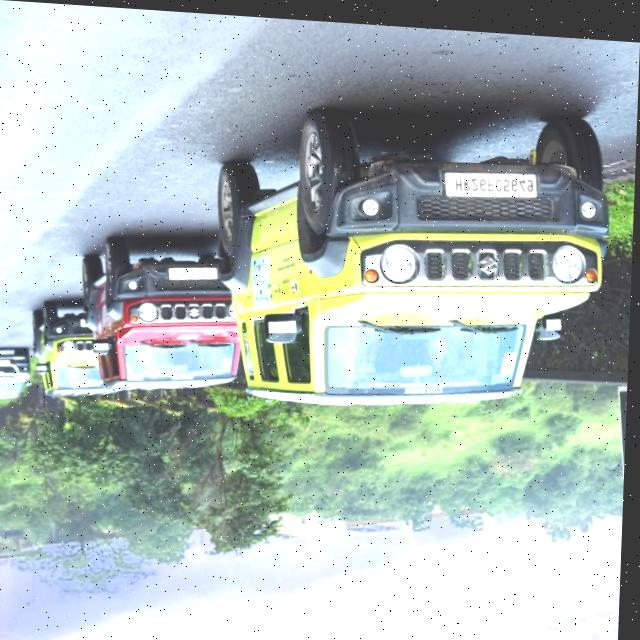plate: (443, 162, 539, 196), (166, 260, 228, 287)
